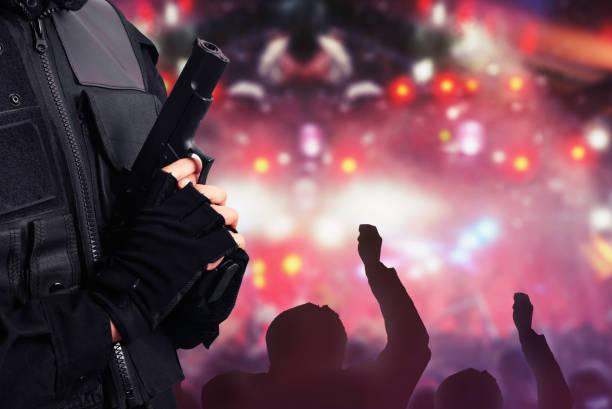weapon: (119, 36, 241, 304)
